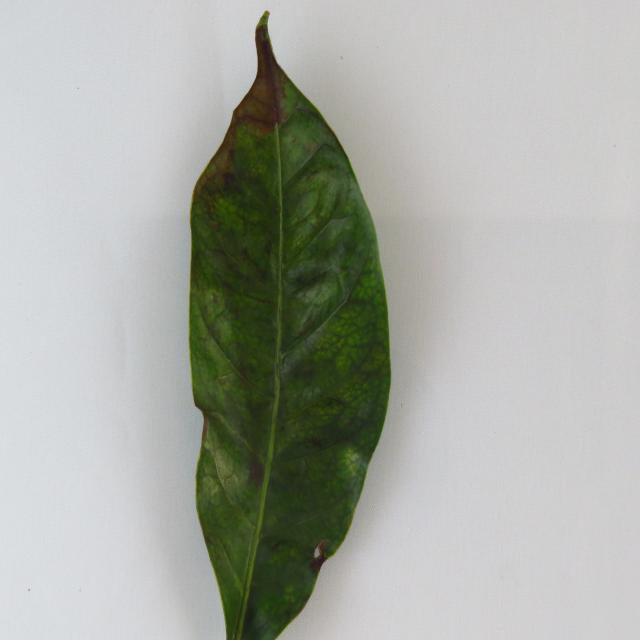DeficienciaNutricional-Manganeso: (190, 12, 390, 638)
